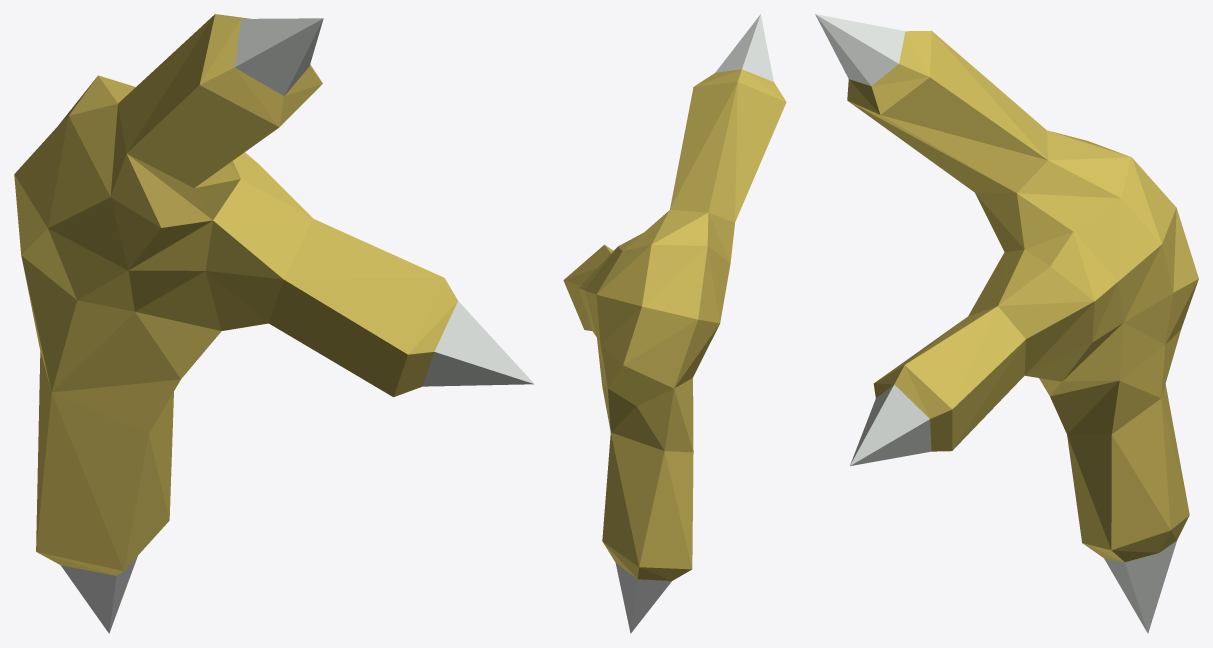
Rendered from BR_Kadabra-Shiny01.obj.
3 views of the same model, side by side, from view 1: azimuth 30°, elevation 25°; view 2: azimuth 150°, elevation 25°; view 3: azimuth 270°, elevation 25° (orthographic). The views are drawn at different scales.
Visible parts, largest first — view 1: yungerer; view 2: yungerer; view 3: yungerer.
Boxes of the visible parts, x1,y1,x2,y2 form: yungerer: (14, 14, 534, 633); yungerer: (563, 14, 786, 633); yungerer: (815, 14, 1198, 633).
Size of the model in its own units: 1.69 by 3.61 by 2.01.
